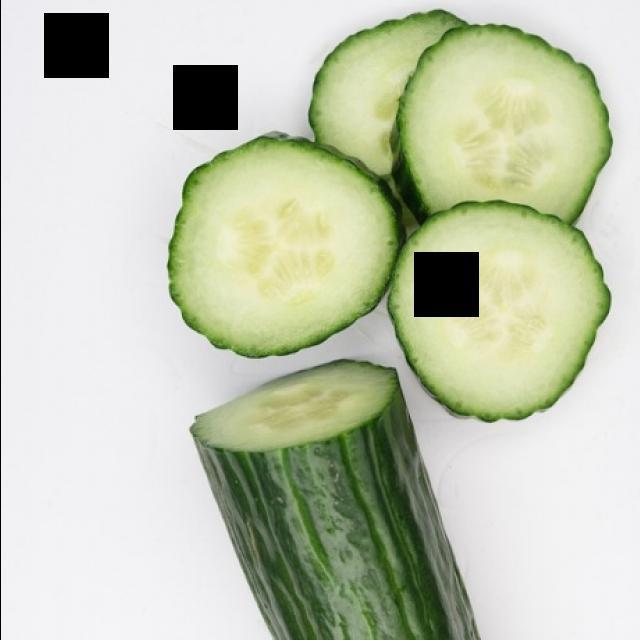cucumber: (158, 0, 574, 432), (156, 96, 422, 370), (362, 14, 614, 282)
